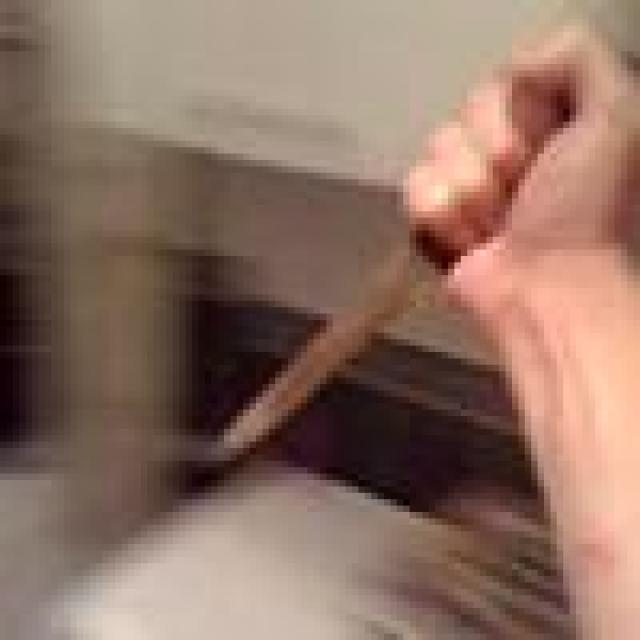faca: (192, 0, 640, 506)
